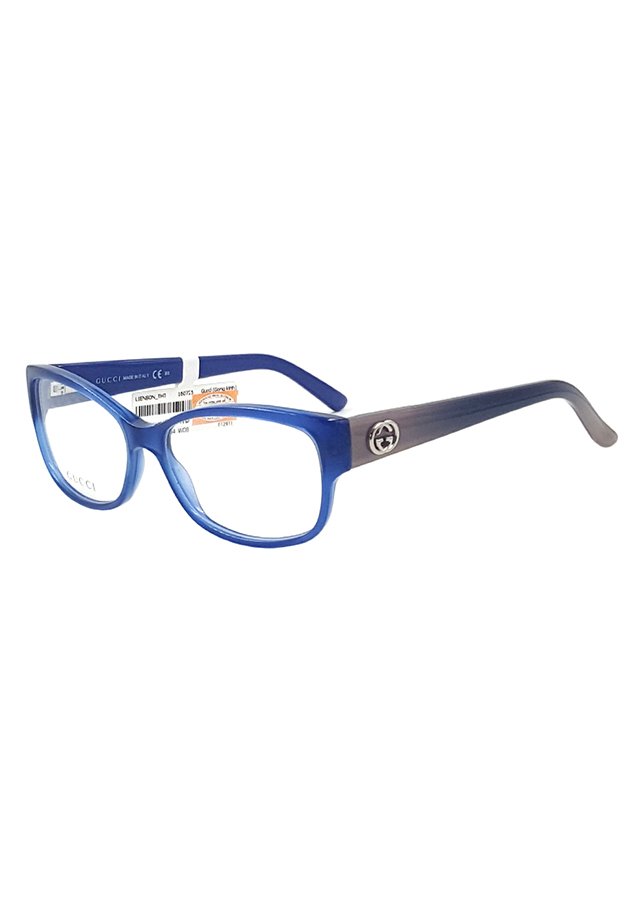Gucci: (362, 417, 405, 461), (59, 465, 100, 496), (91, 371, 126, 391)
